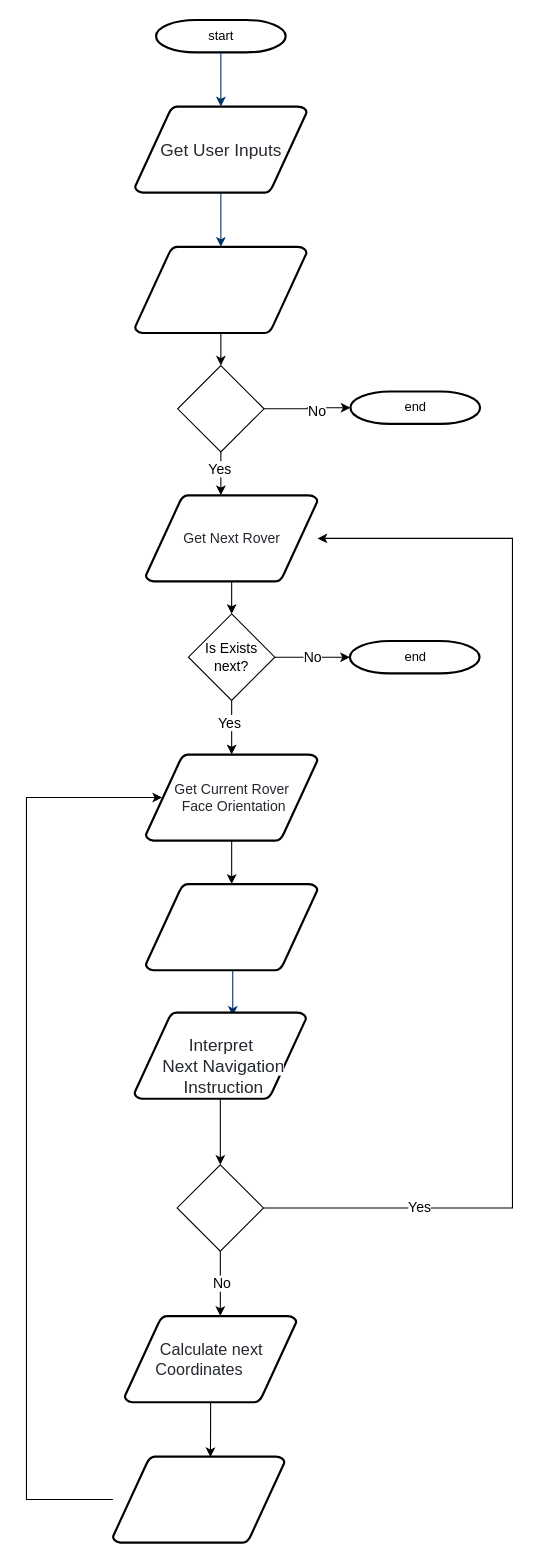
This 540x1562 diagram has some shape labels left out. Each missing label, with the centre of its shape:
"Is All Complete?" belongs at point (220, 1207).
"Is Correct ?" belongs at point (220, 408).
"Move next Grid" belongs at point (198, 1499).
"Predict the next Facing Orientation" belongs at point (231, 926).
"Validation" belongs at point (220, 289).
